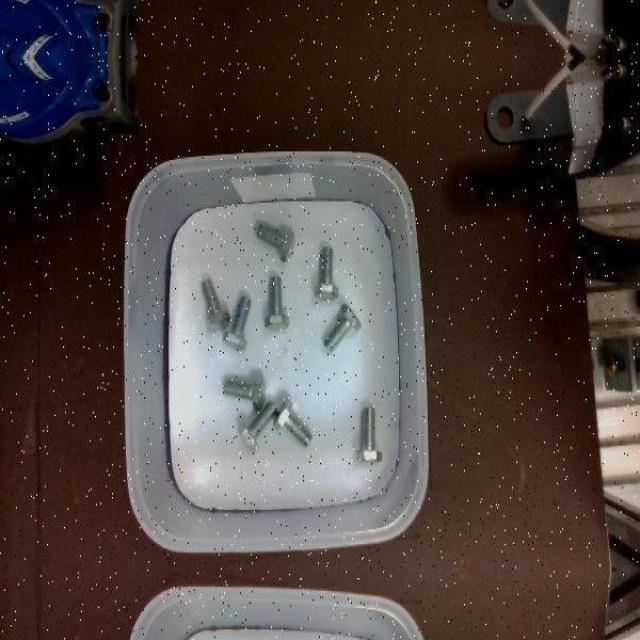screw: (238, 400, 277, 453), (273, 399, 313, 447), (324, 302, 363, 351), (222, 294, 252, 350), (202, 278, 232, 332), (224, 376, 267, 411), (256, 224, 295, 261), (357, 406, 383, 461), (265, 275, 289, 329), (315, 246, 339, 300)
